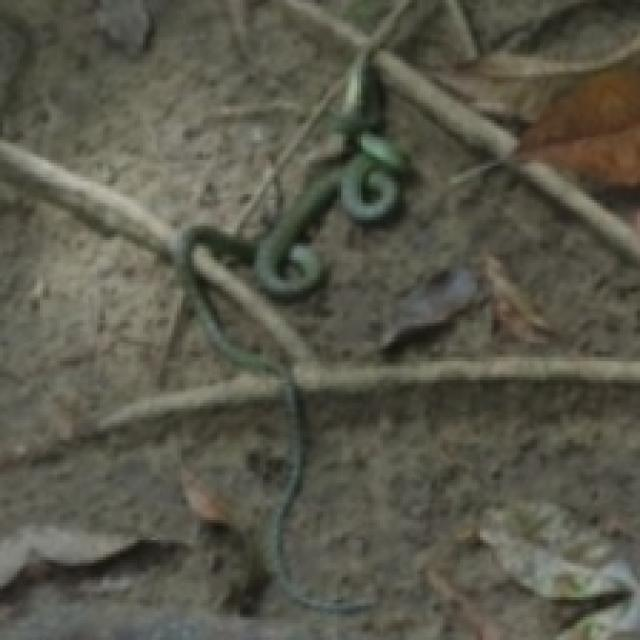paradise tree snake: (0, 54, 406, 609)
